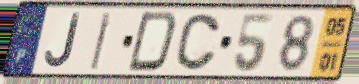5: (231, 11, 273, 75)
8: (277, 14, 317, 73)
C: (173, 12, 223, 73)
D: (125, 9, 180, 74)
I: (87, 11, 114, 72)
J: (43, 12, 83, 70)
